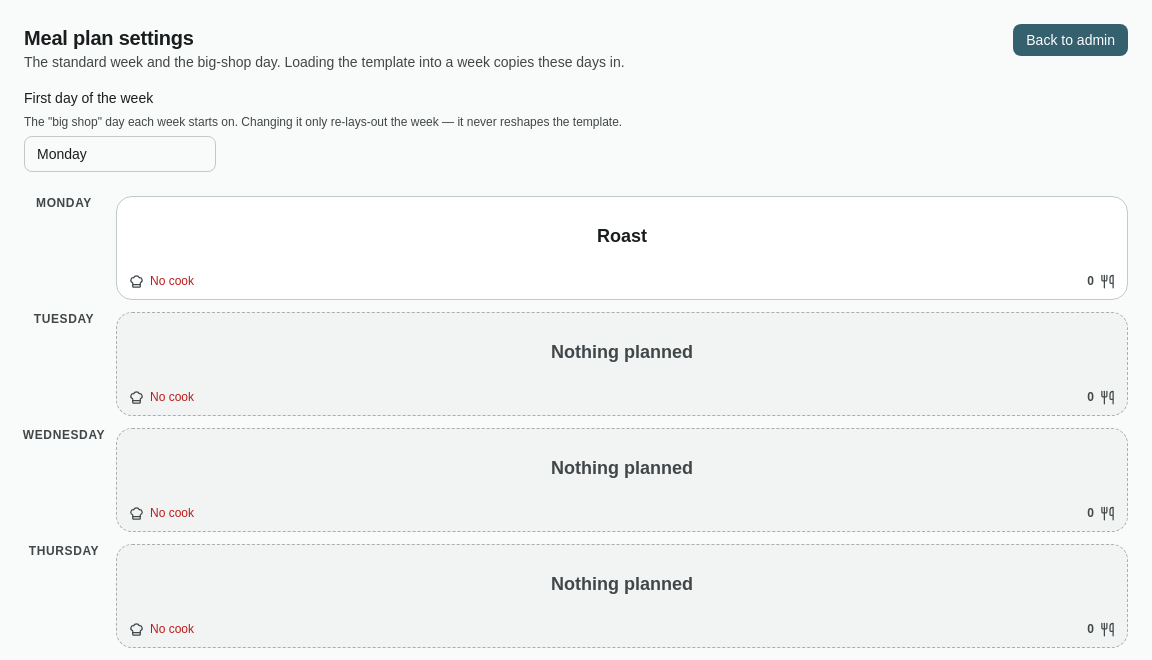
Test: AdminMealPlanPage › reflects an existing template note in the day's sheet
Step 1. Click the button with test id "tmpl-mon-summary" → (576, 248), box [24,196,1128,300]
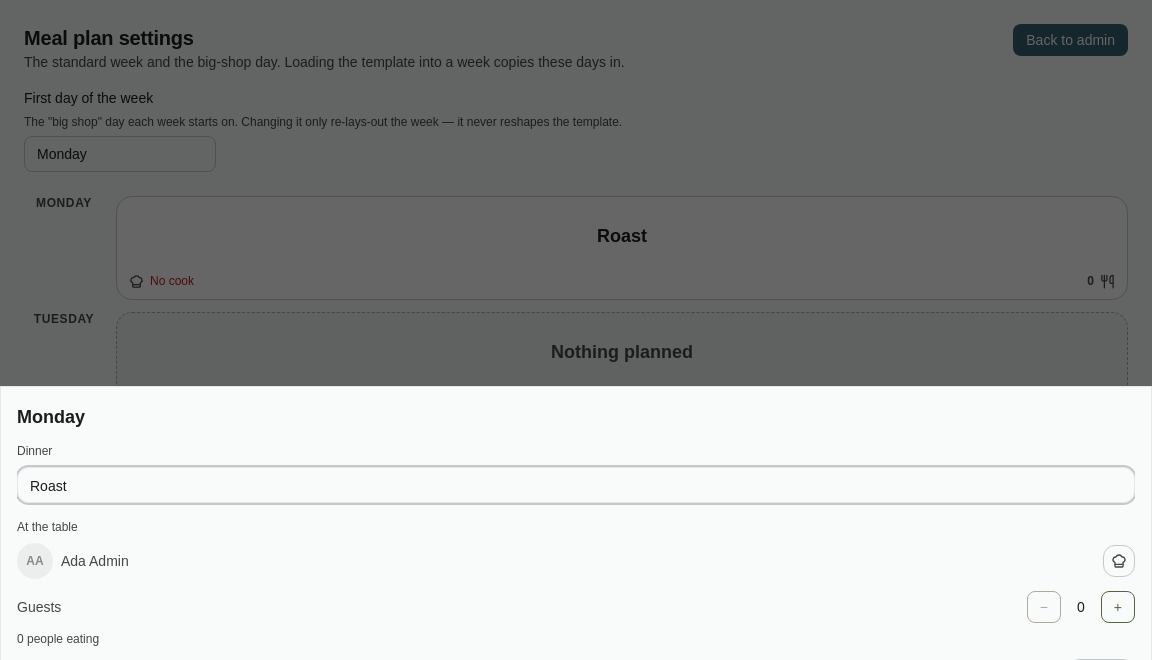
Result: the text box with test id "tmpl-mon-note" holds "Roast" at [17,467,1135,503]
